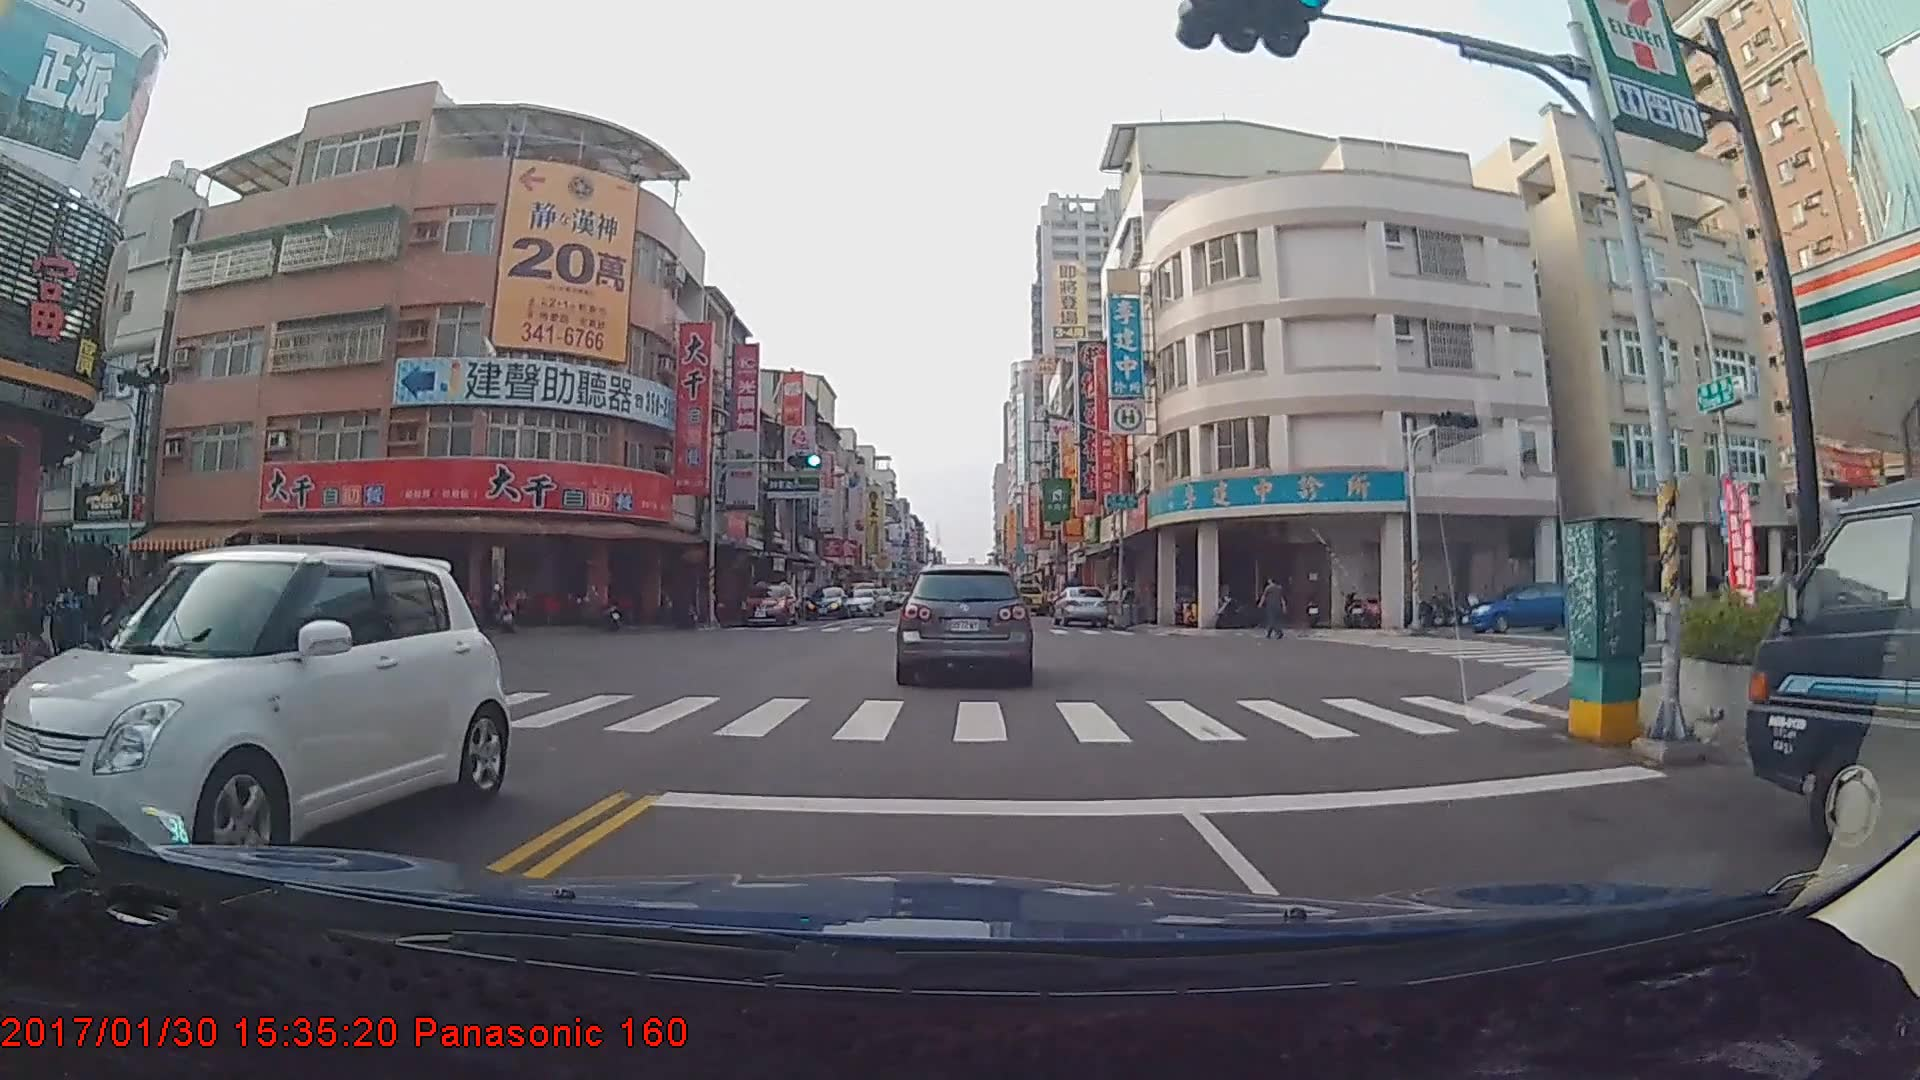pedestrian: (1259, 576, 1288, 643)
vehicle: (0, 548, 506, 888), (1746, 467, 1920, 914), (895, 563, 1032, 686), (1460, 580, 1591, 633), (741, 578, 798, 626), (1050, 580, 1109, 623), (803, 581, 849, 615), (839, 584, 883, 613), (1009, 581, 1046, 614)
